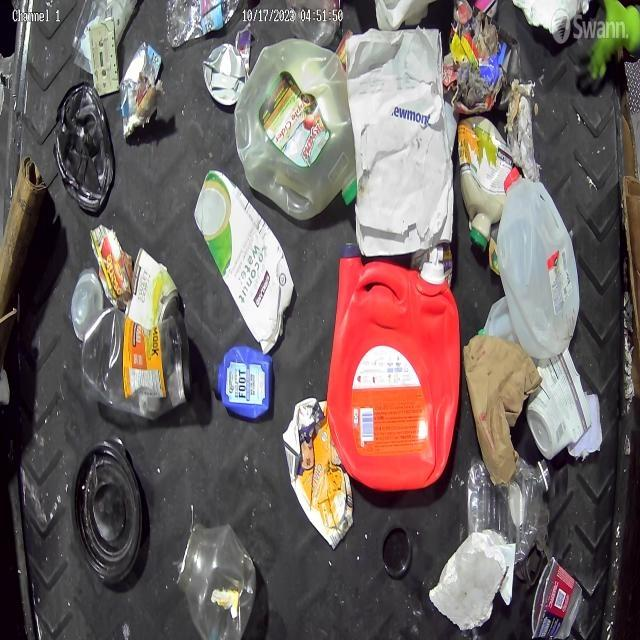milk_jug: (236, 35, 357, 220), (497, 169, 582, 357)
non_white_jug: (326, 240, 461, 492), (194, 169, 295, 356), (212, 344, 274, 422)
plastic_bottle: (466, 455, 552, 567), (166, 0, 240, 48)
